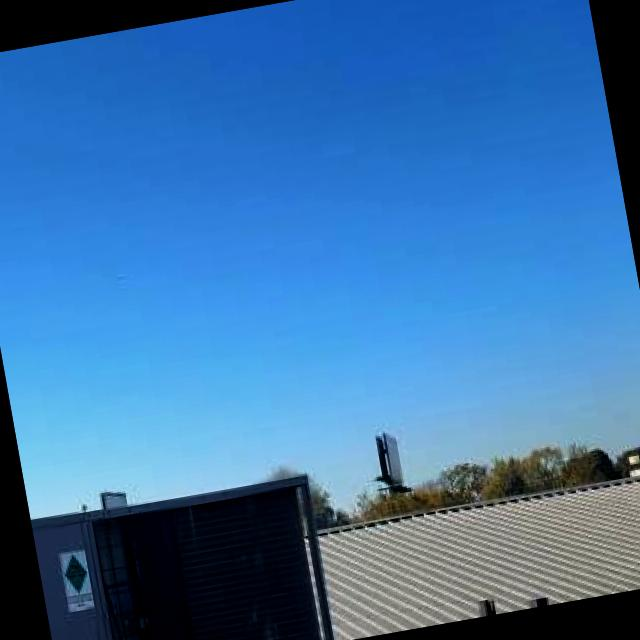RTU: (25, 438, 361, 640)
